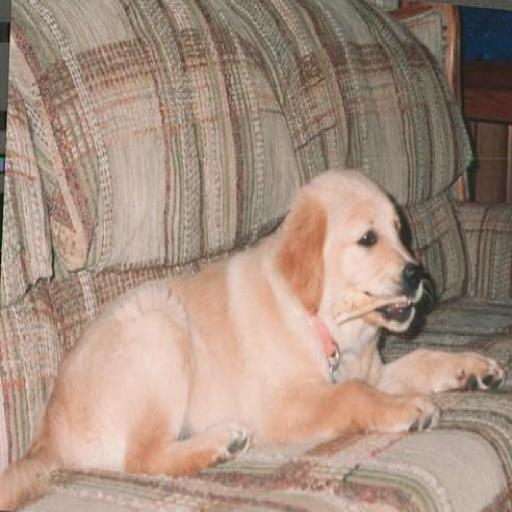dog_face: (280, 170, 430, 337)
